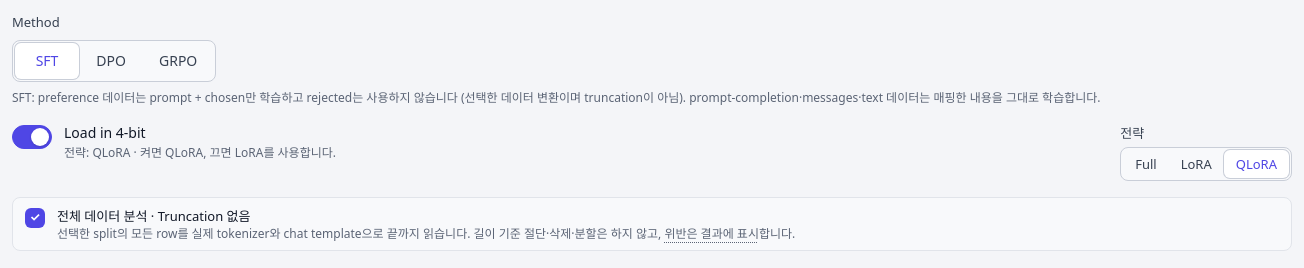
Test case: method section › links Load in 4-bit with the strategy and keeps Full + 4-bit impossible
The width and height of the screenshot is (1304, 268).
Click the switch named "Load in 4-bit": (32, 137) [12,125,52,149]
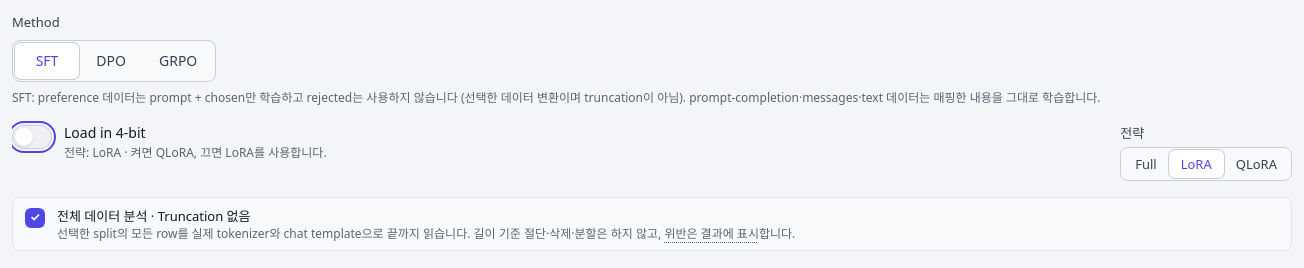
Click the switch named "Load in 4-bit": (32, 137) [12,125,52,149]
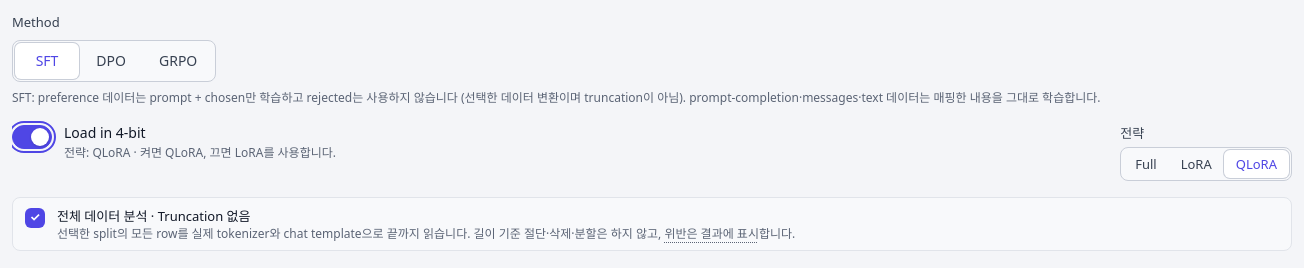
Click the radio button labelled "Full": (1146, 164) [1123,150,1169,178]
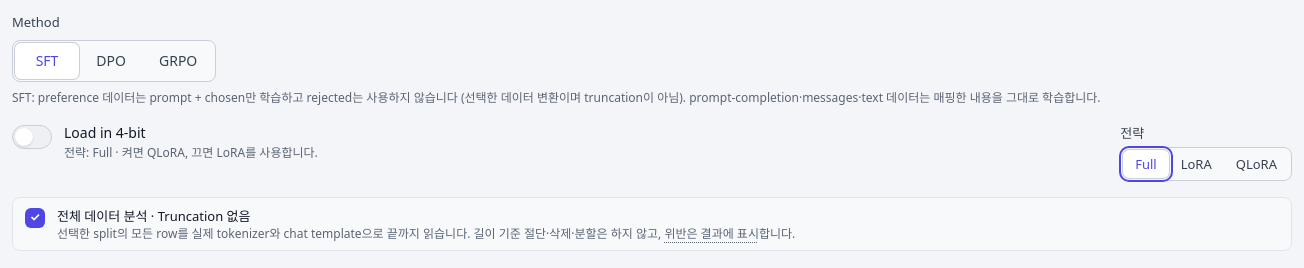
Now the text "전략: Full · 켜면 QLoRA, 끄면 LoRA를 사용합니다." is shown, box [64,144,318,161]
